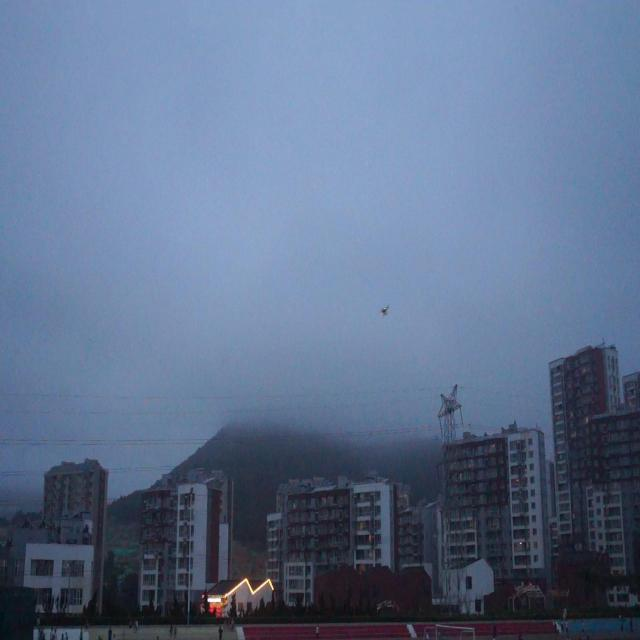drone: (379, 304, 391, 318)
